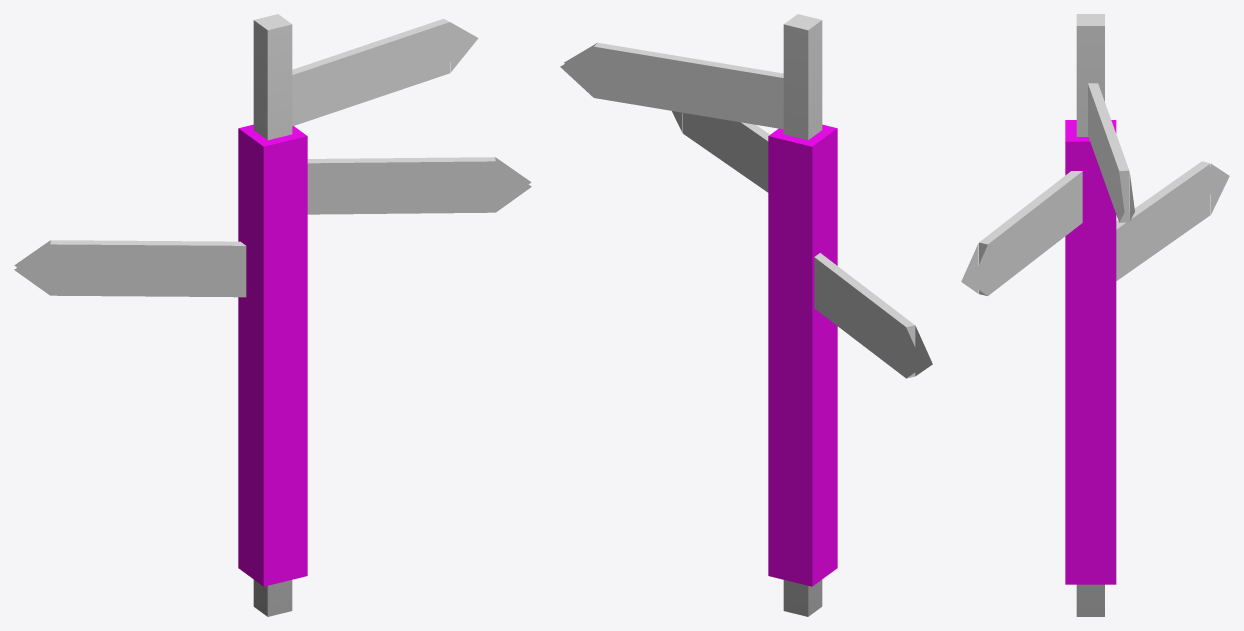
Rendered from signpost.glb.
The picture shows the model from 3 angles, left to right: view 1: azimuth 30°, elevation 25°; view 2: azimuth 150°, elevation 25°; view 3: azimuth 270°, elevation 25°; orthographic projection.
Visible parts, largest first — view 1: signpost, signpost_hull; view 2: signpost_hull, signpost; view 3: signpost_hull, signpost.
Part boxes in pixels (x1,y1,x2,y2): signpost: (14,14,531,616); signpost_hull: (238,124,307,586); signpost_hull: (768,124,837,586); signpost: (560,14,932,616); signpost_hull: (1065,120,1116,584); signpost: (961,14,1229,616).
Bounding box in the file's own units: 2.38 × 3.2 × 1.32.
